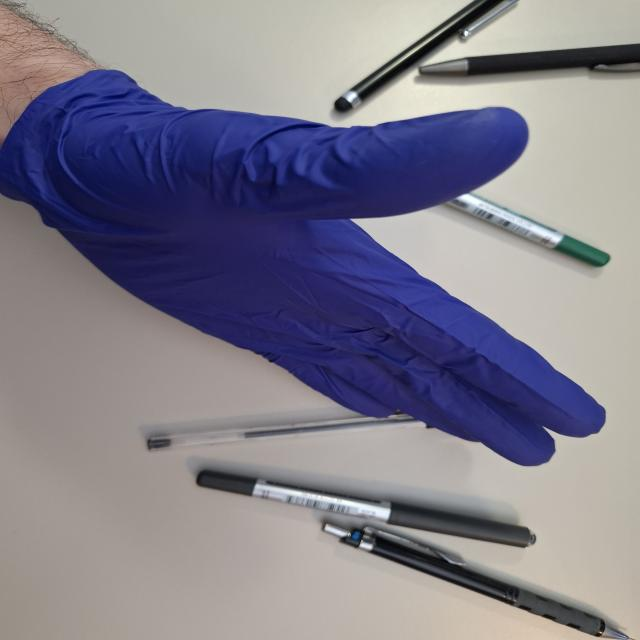glove_on: (8, 70, 612, 470)
